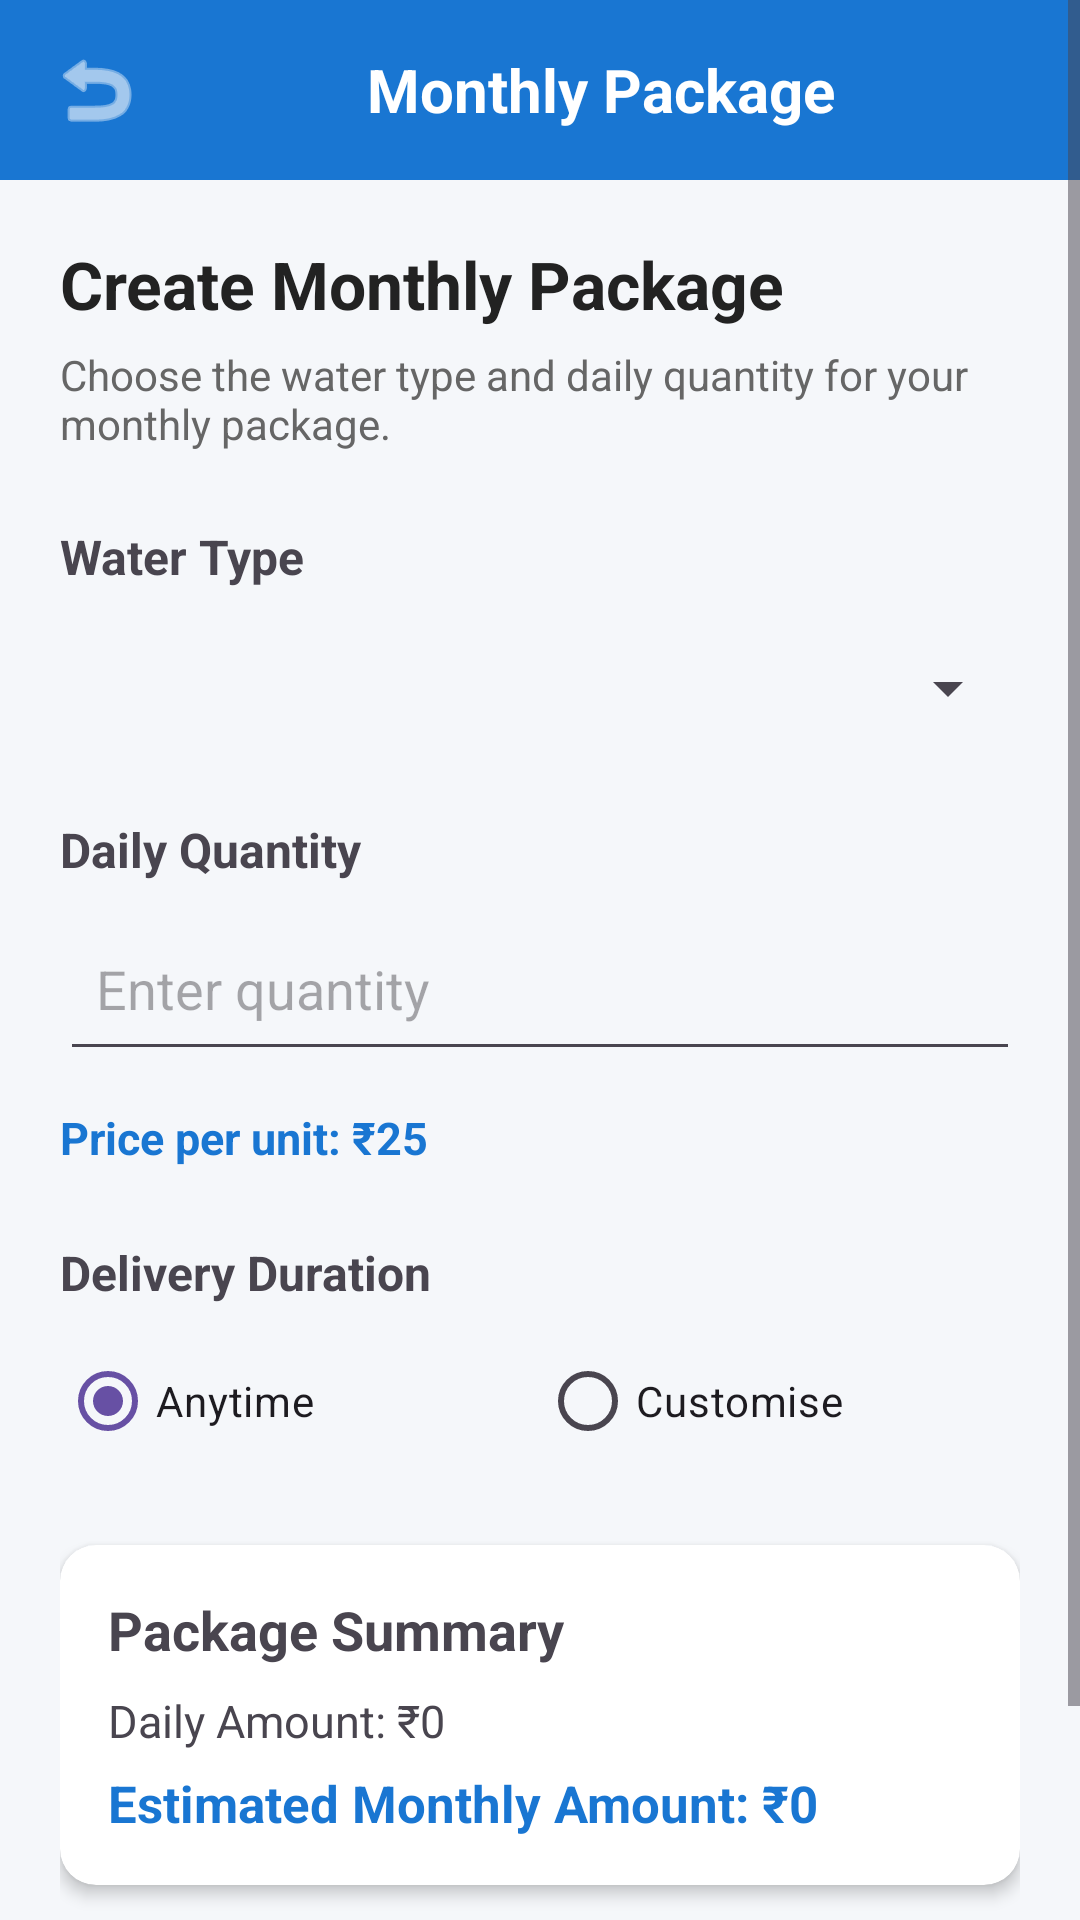

Where to tap for icons on this 1080×1920 app screen, as [x,y]:
Back: [97,90]
